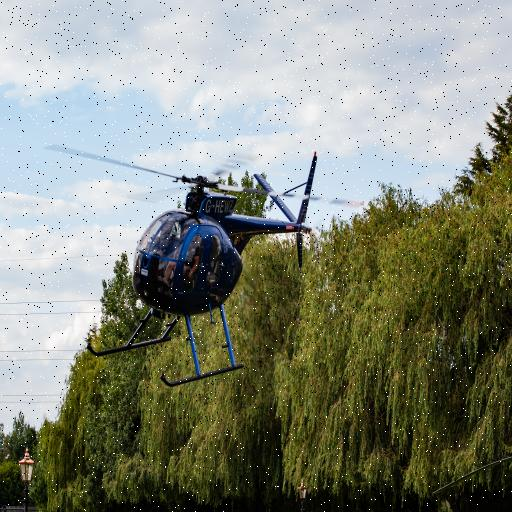helicopter: (47, 141, 350, 385)
